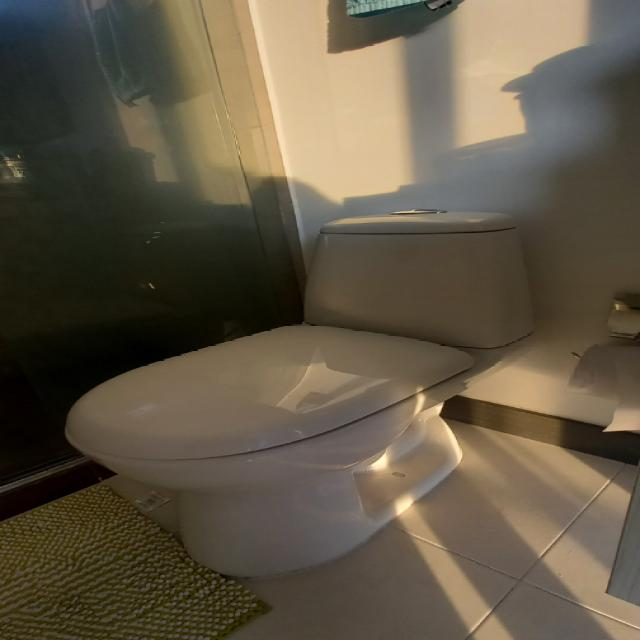toilet: (63, 209, 536, 579)
